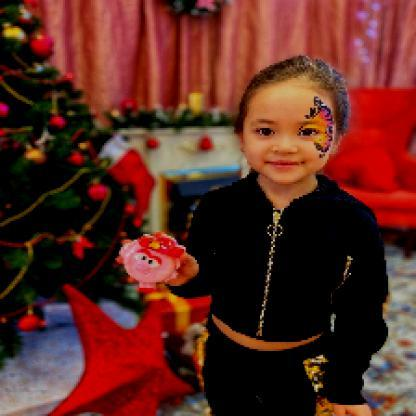child: (164, 57, 393, 416)
